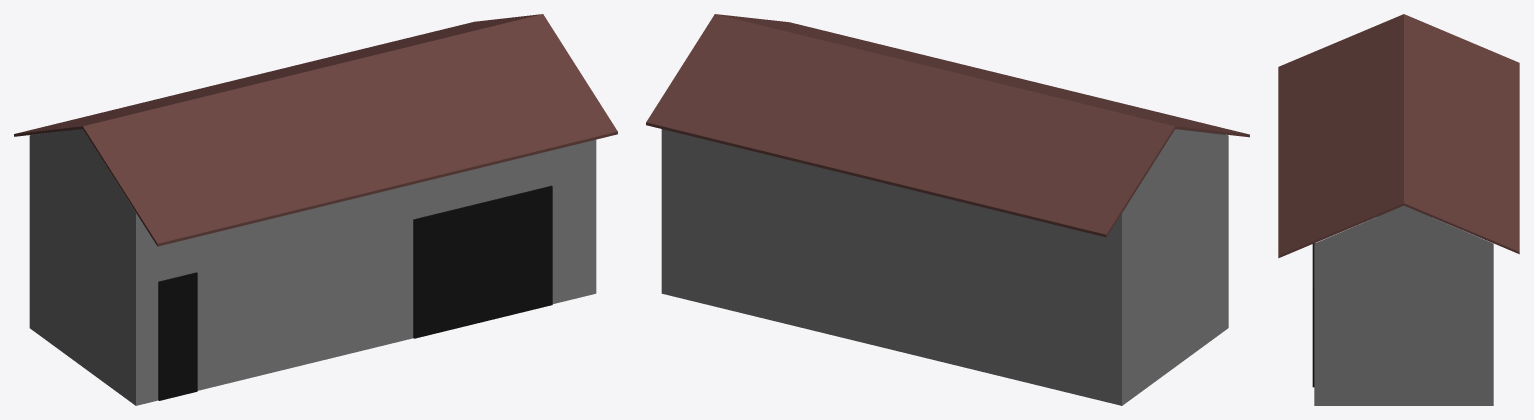
Rendered from barracao.fbx.
3 renders of one model, left to right at view 1: azimuth 30°, elevation 25°; view 2: azimuth 150°, elevation 25°; view 3: azimuth 270°, elevation 25°, orthographic. The views are drawn at different scales.
Parts seen in each view (by area): view 1: barracao; view 2: barracao; view 3: barracao.
Boxes of the visible parts, left/top/right/bottom form: barracao: left=14, top=14, right=617, bottom=405; barracao: left=646, top=14, right=1249, bottom=405; barracao: left=1278, top=14, right=1519, bottom=405.
Bounding box in the file's own units: 513 × 256 × 277.
